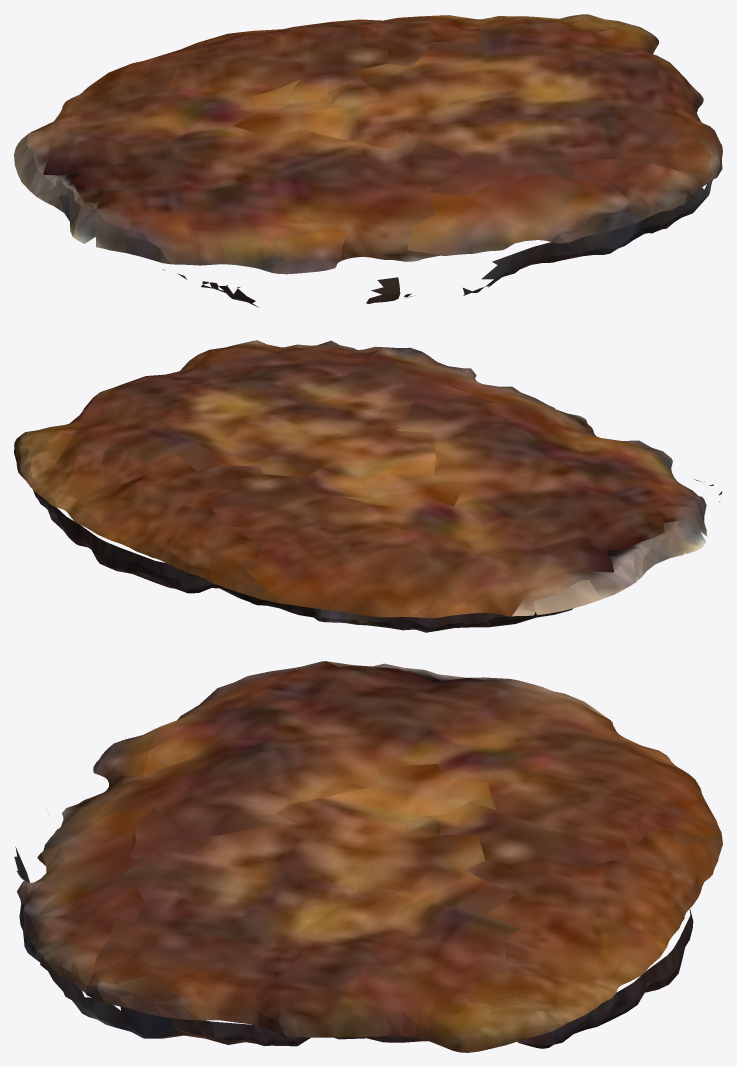
The model's file is patty.glb.
The picture shows the model from 3 angles, top to bottom: view 1: azimuth 30°, elevation 25°; view 2: azimuth 150°, elevation 25°; view 3: azimuth 270°, elevation 25°; orthographic projection. The views are drawn at different scales.
Visible parts, largest first — view 1: patty; view 2: patty; view 3: patty.
Part boxes in pixels (x1,y1,x2,y2): patty: (14, 14, 722, 307); patty: (14, 340, 722, 632); patty: (14, 661, 722, 1052).
Bounding box in the file's own units: 10.1 × 1.13 × 8.04.
2 materials, 2 textured.
